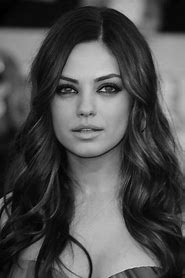person: (37, 5, 155, 166)
